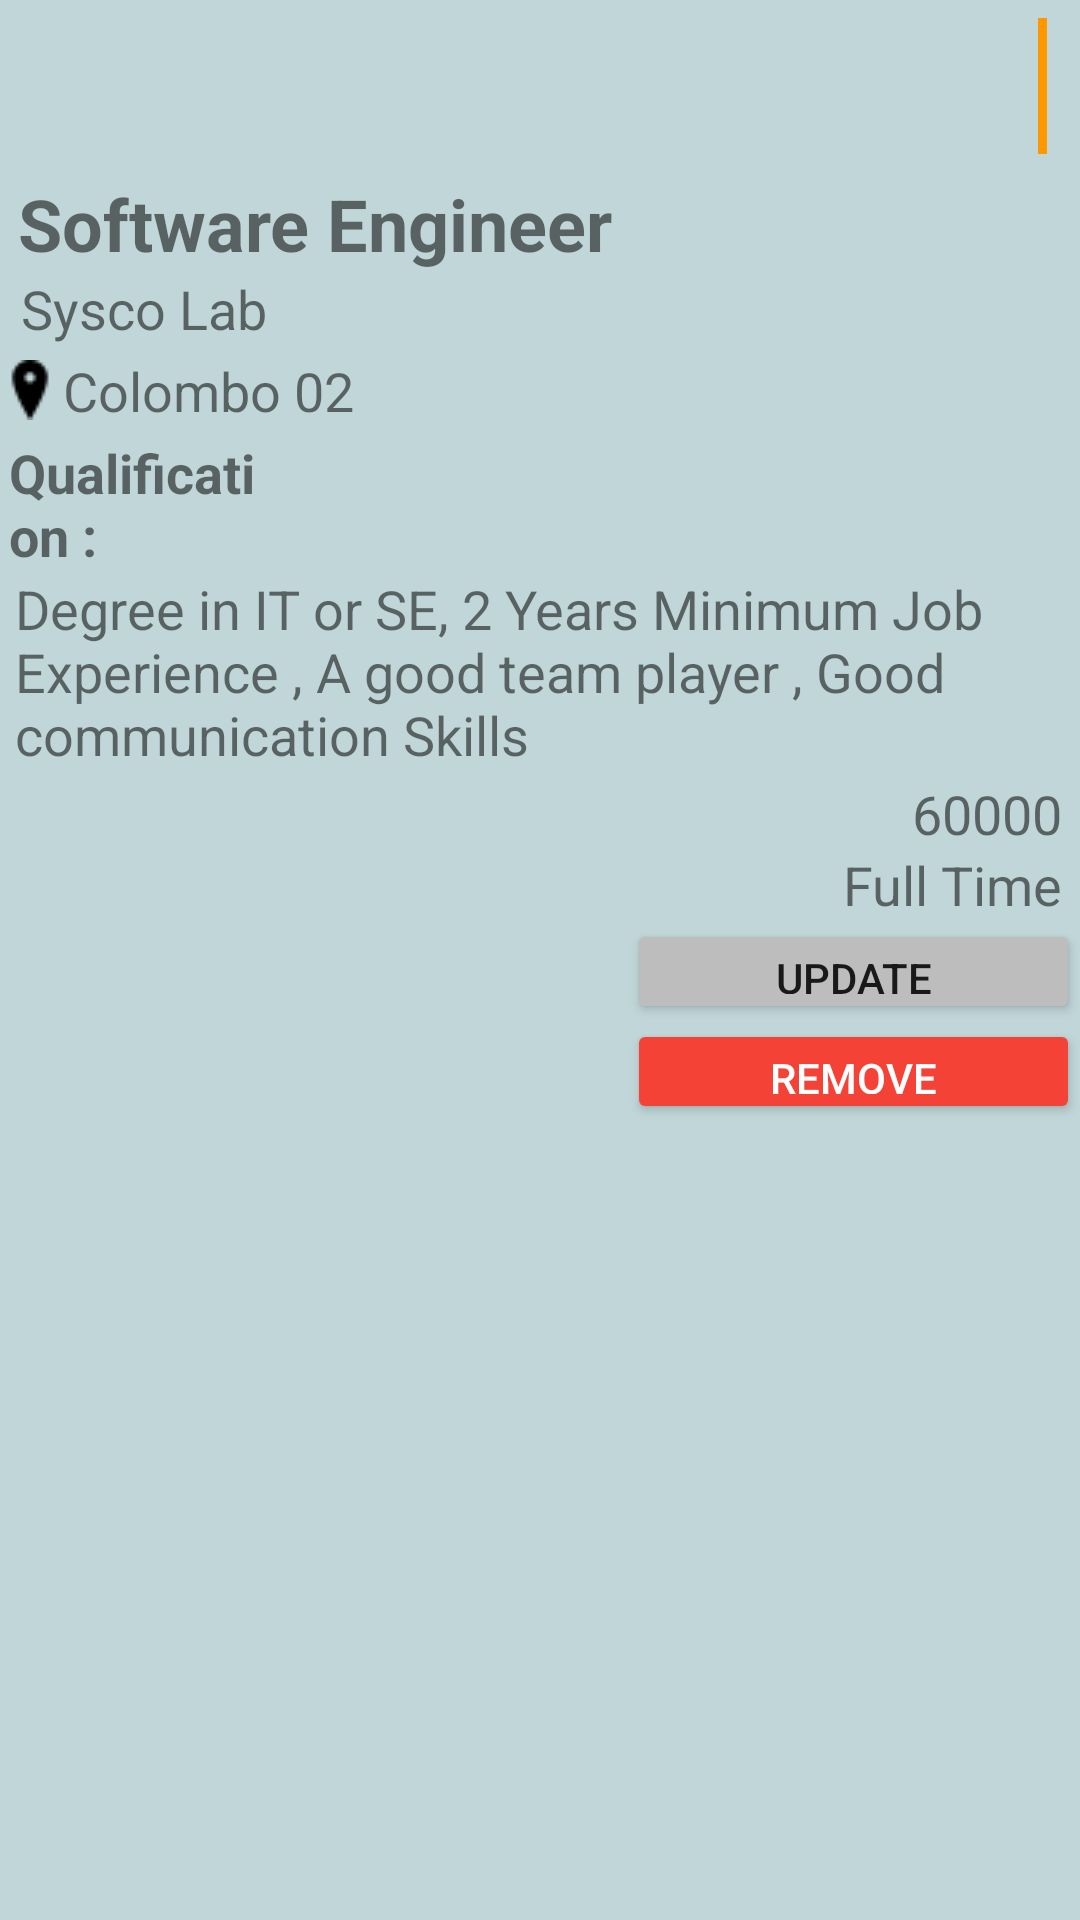

Screen size 1080px×1920px. Icon name, then its center in pixels as point (x, y):
location: point (30, 390)
